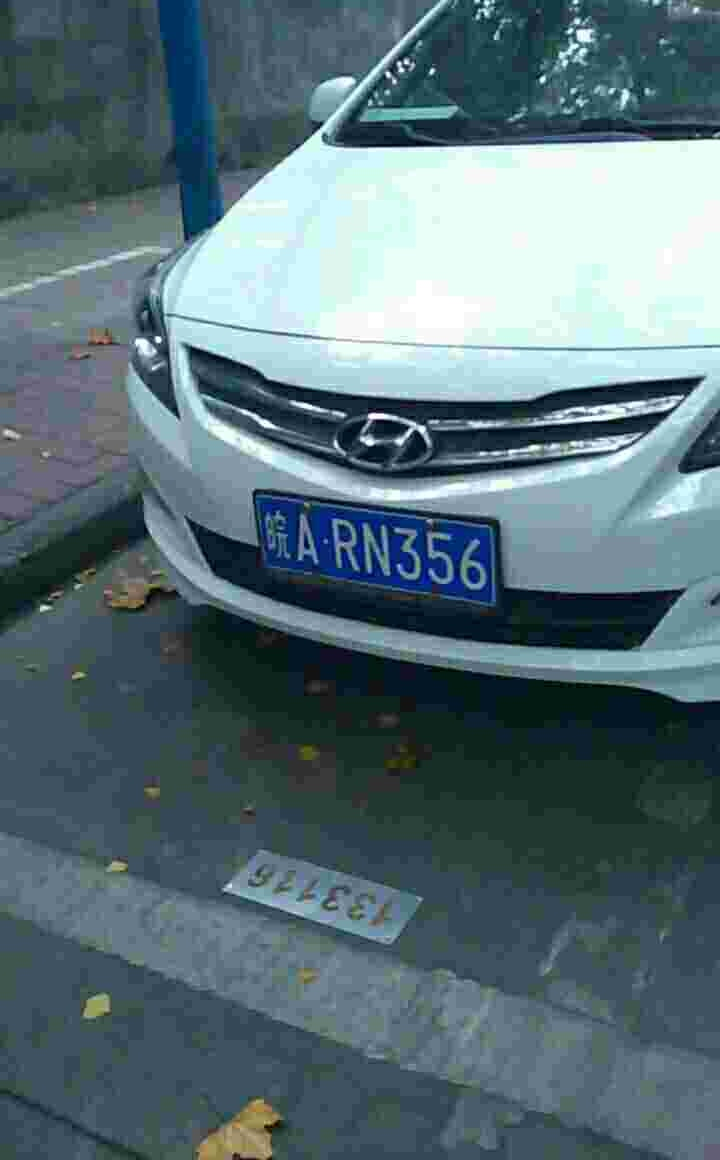license_plate: (252, 500, 506, 590)
